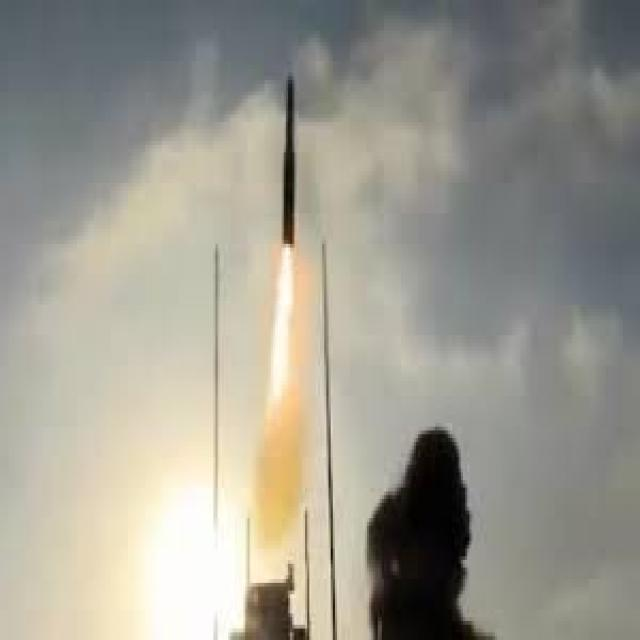Missile: (280, 67, 301, 250)
